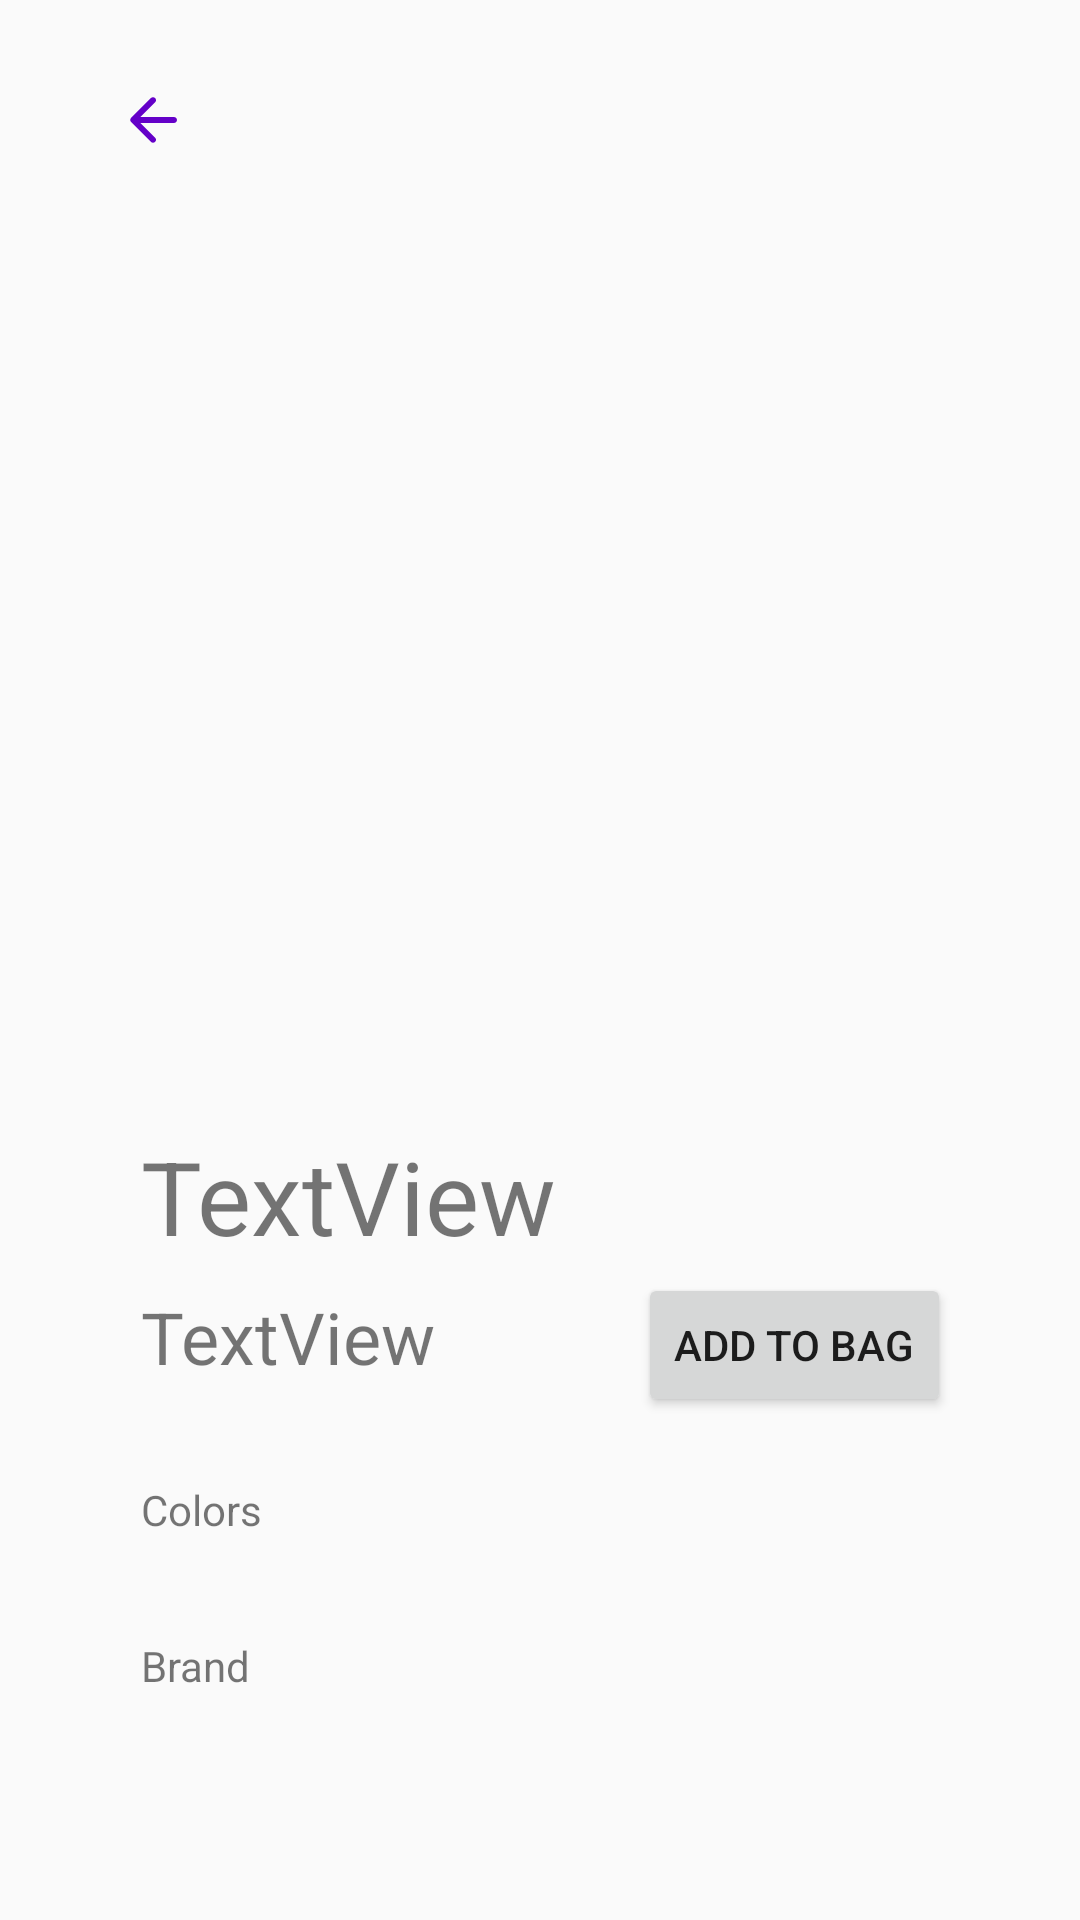

Point at icon controls on the screen. Image size 1080*1920, points as [x,y].
arrow back: [153,120]
